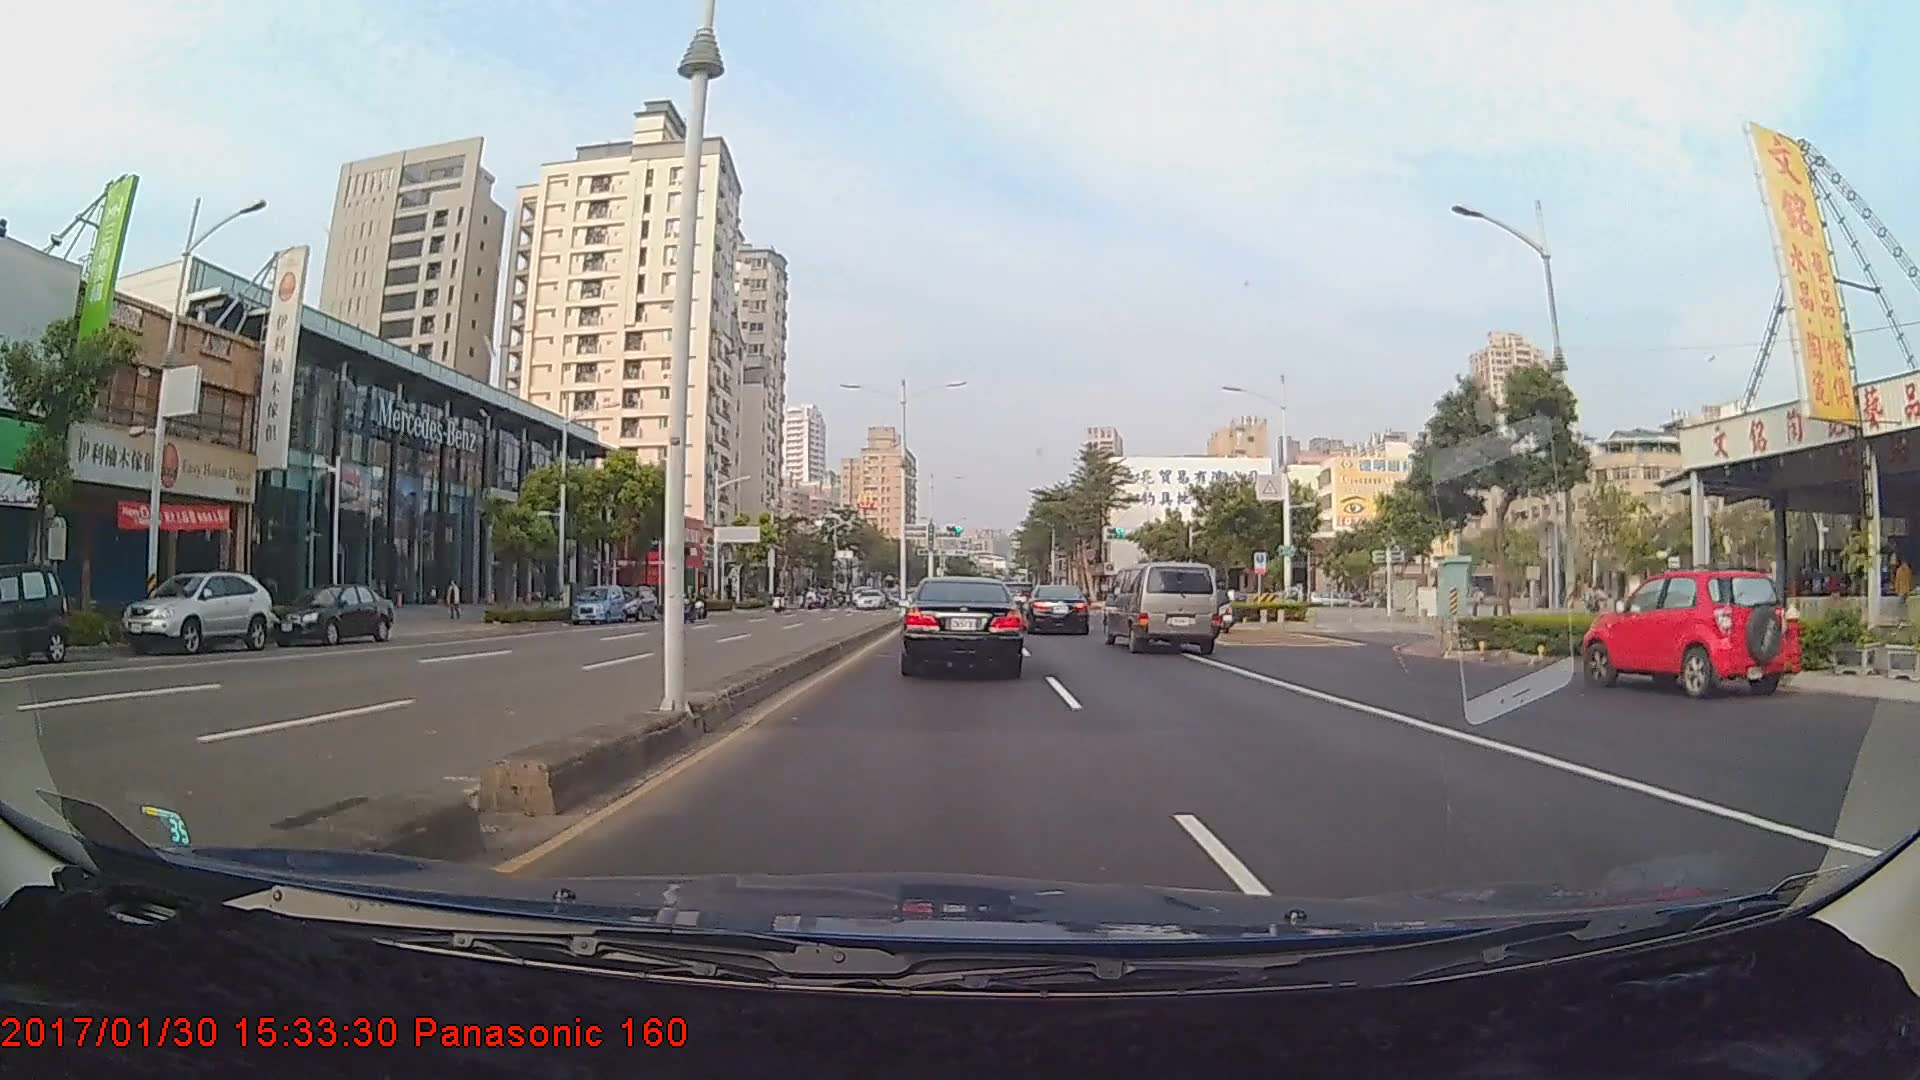pedestrian: (1893, 557, 1913, 635), (444, 578, 464, 622)
vehicle: (1589, 566, 1785, 700), (119, 566, 269, 653), (899, 575, 1023, 676), (1104, 561, 1218, 653), (267, 582, 395, 645), (0, 559, 70, 665), (1021, 584, 1092, 636), (571, 583, 627, 624), (613, 586, 653, 622), (856, 585, 886, 607)
